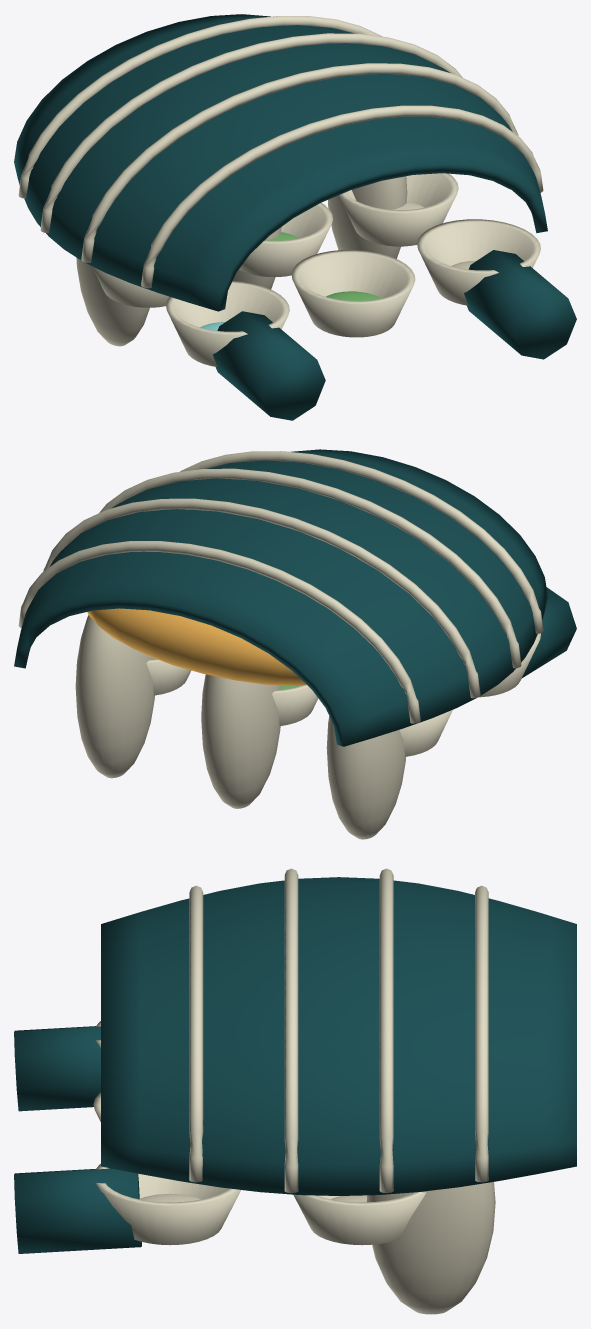
File: 07_general_store.obj
The picture shows the model from 3 angles, top to bottom: view 1: azimuth 30°, elevation 25°; view 2: azimuth 150°, elevation 25°; view 3: azimuth 270°, elevation 25°; orthographic projection. The views are drawn at different scales.
Parts seen in each view (by area): view 1: asymmetric_storage_canopy, separate_retained_goods_bay.002, wide_loading_mouth.001, wide_loading_mouth, structural_shell_rib.043, separate_retained_goods_bay.004, structural_shell_rib.042, structural_shell_rib.044, separate_retained_goods_bay.005, separate_retained_goods_bay, structural_shell_rib.045, separate_retained_goods_bay.003 (+4 smaller); view 2: asymmetric_storage_canopy, local_substrate_grip.008, local_substrate_grip.007, occupied_chamber.016, local_substrate_grip.006, structural_shell_rib.044, structural_shell_rib.045, structural_shell_rib.043, structural_shell_rib.042, wide_loading_mouth, separate_retained_goods_bay.003, separate_retained_goods_bay.001 (+2 smaller); view 3: asymmetric_storage_canopy, local_substrate_grip.008, wide_loading_mouth.001, wide_loading_mouth, separate_retained_goods_bay.004, structural_shell_rib.043, structural_shell_rib.044, separate_retained_goods_bay.005, structural_shell_rib.042, structural_shell_rib.045.
Part boxes in pixels (x1,y1,x2,y2): asymmetric_storage_canopy: (14, 14, 547, 311); separate_retained_goods_bay.002: (291, 250, 415, 337); wide_loading_mouth.001: (464, 250, 576, 359); wide_loading_mouth: (212, 311, 325, 420); structural_shell_rib.043: (81, 63, 518, 262); separate_retained_goods_bay.004: (417, 219, 540, 305); structural_shell_rib.042: (141, 105, 543, 288); structural_shell_rib.044: (40, 33, 462, 232); separate_retained_goods_bay.005: (339, 173, 458, 246); separate_retained_goods_bay: (166, 281, 289, 366); structural_shell_rib.045: (18, 16, 381, 198); separate_retained_goods_bay.003: (239, 202, 332, 276); asymmetric_storage_canopy: (14, 449, 547, 746); local_substrate_grip.008: (75, 615, 154, 778); local_substrate_grip.007: (201, 674, 280, 808); occupied_chamber.016: (87, 608, 306, 685); local_substrate_grip.006: (326, 716, 405, 839); structural_shell_rib.044: (43, 498, 480, 698); structural_shell_rib.045: (18, 541, 420, 723); structural_shell_rib.043: (99, 468, 521, 668); structural_shell_rib.042: (180, 451, 543, 633); wide_loading_mouth: (521, 587, 576, 678); separate_retained_goods_bay.003: (272, 685, 318, 726); separate_retained_goods_bay.001: (399, 710, 452, 756); asymmetric_storage_canopy: (101, 877, 576, 1195); local_substrate_grip.008: (366, 1182, 495, 1314); wide_loading_mouth.001: (14, 1168, 141, 1253); wide_loading_mouth: (14, 1026, 100, 1111); separate_retained_goods_bay.004: (96, 1164, 240, 1245); structural_shell_rib.043: (284, 868, 298, 1193); structural_shell_rib.044: (379, 868, 393, 1193); separate_retained_goods_bay.005: (293, 1192, 426, 1245); structural_shell_rib.042: (189, 885, 203, 1182); structural_shell_rib.045: (475, 885, 488, 1182).
Bounding box in the file's own units: 3.84 × 2.38 × 3.67.
